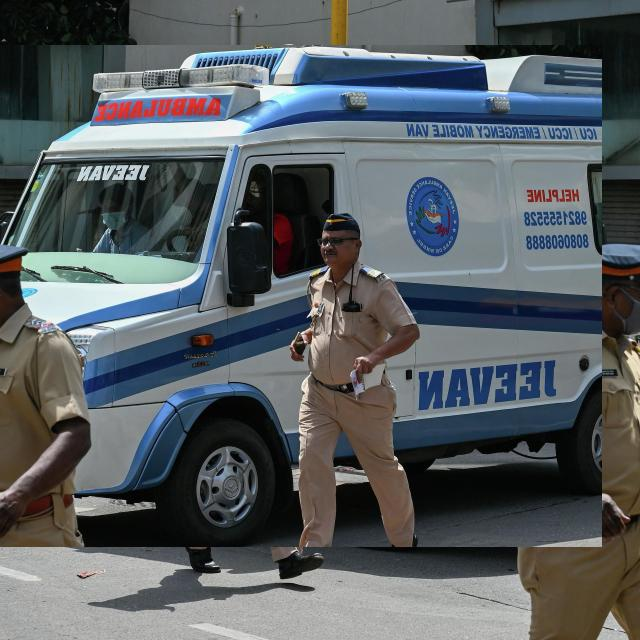emergency: (0, 46, 602, 547)
